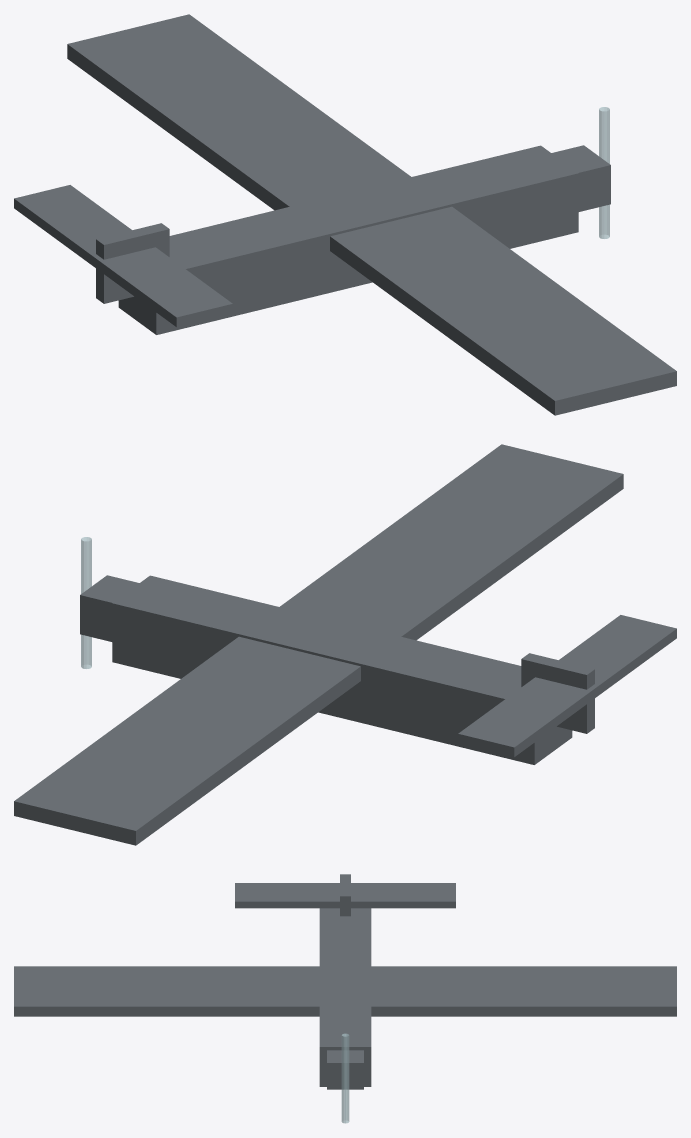
File: fixed_wing.glb
3 views of the same model, one above another, from view 1: azimuth 30°, elevation 25°; view 2: azimuth 150°, elevation 25°; view 3: azimuth 270°, elevation 25° (orthographic). The views are drawn at different scales.
Parts seen in each view (by area): view 1: drone; view 2: drone; view 3: drone.
Boxes of the visible parts, left/top/right/bottom form: drone: left=14, top=14, right=676, bottom=415; drone: left=14, top=444, right=676, bottom=845; drone: left=14, top=874, right=676, bottom=1123.
Bounding box in the file's own units: 1.09 × 0.26 × 1.8.
